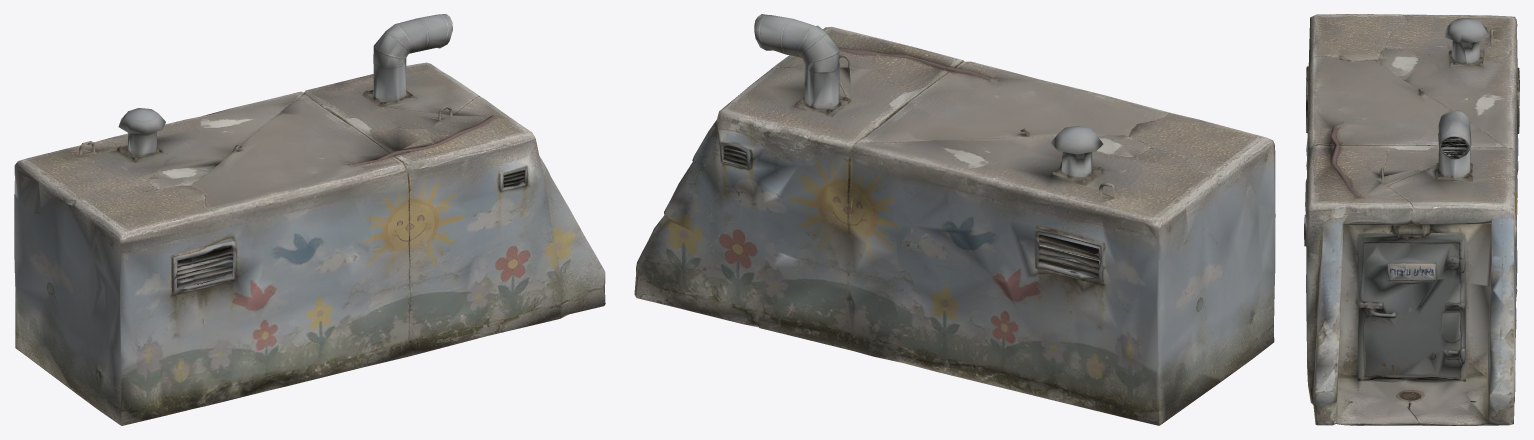
File: e_shelter.glb
3 renders of one model, left to right at view 1: azimuth 30°, elevation 25°; view 2: azimuth 150°, elevation 25°; view 3: azimuth 270°, elevation 25°, orthographic. The views are drawn at different scales.
Parts seen in each view (by area): view 1: tripo_node_8e4e5dfd-dbc9-469a-9888-5c5594123dfe; view 2: tripo_node_8e4e5dfd-dbc9-469a-9888-5c5594123dfe; view 3: tripo_node_8e4e5dfd-dbc9-469a-9888-5c5594123dfe.
Boxes of the visible parts, x1=… form: tripo_node_8e4e5dfd-dbc9-469a-9888-5c5594123dfe: x1=14, y1=14, x2=605, y2=425; tripo_node_8e4e5dfd-dbc9-469a-9888-5c5594123dfe: x1=634, y1=14, x2=1275, y2=425; tripo_node_8e4e5dfd-dbc9-469a-9888-5c5594123dfe: x1=1304, y1=14, x2=1519, y2=425.
Bounding box in the file's own units: 0.9989 × 0.5109 × 0.3953.
1 material, 1 textured.
